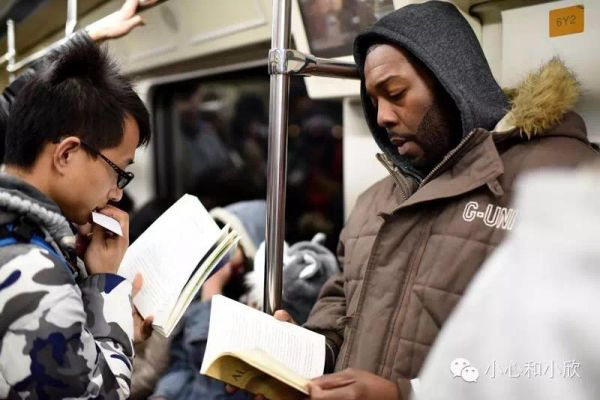without_mask: (362, 67, 453, 163), (67, 121, 136, 225)
